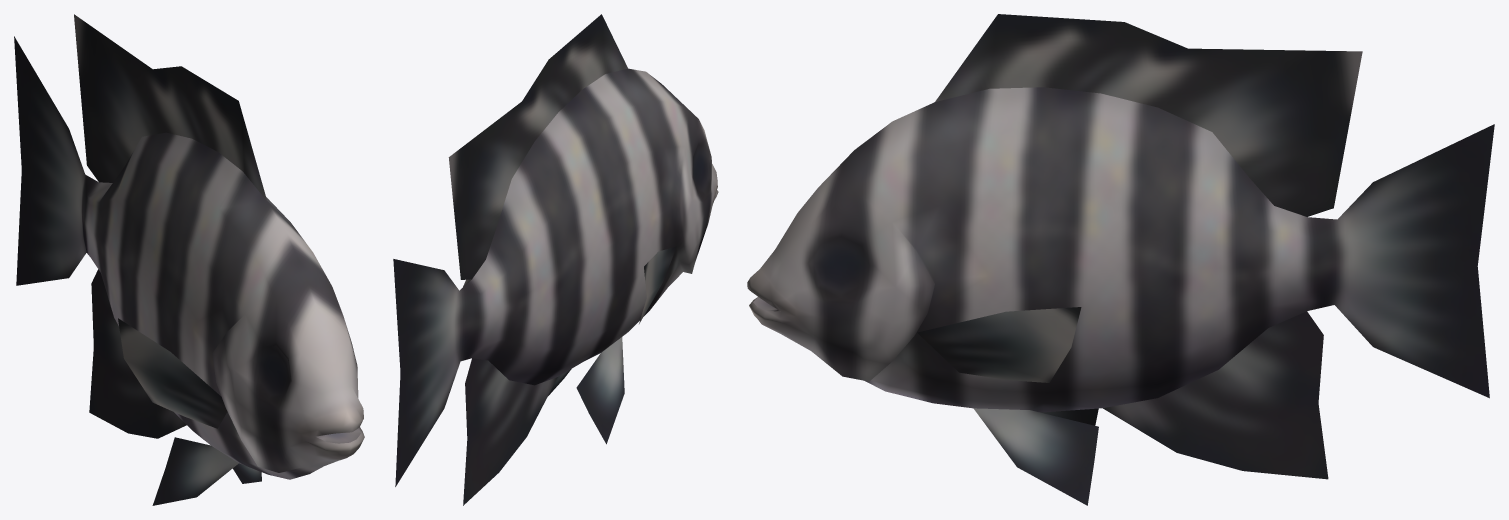
Rendered from barred-knifejaw.glb.
3 renders of one model, left to right at view 1: azimuth 30°, elevation 25°; view 2: azimuth 150°, elevation 25°; view 3: azimuth 270°, elevation 25°, orthographic. The views are drawn at different scales.
Visible parts, largest first — view 1: FishIshidai__mIshidai; view 2: FishIshidai__mIshidai; view 3: FishIshidai__mIshidai.
Part boxes in pixels (box(x1,y1,x2,y2)): FishIshidai__mIshidai: box(14, 14, 364, 505); FishIshidai__mIshidai: box(393, 14, 718, 505); FishIshidai__mIshidai: box(747, 14, 1494, 505).
Bounding box in the file's own units: 1.67 × 4.05 × 5.87.
Materials: 1 (1 with a texture image).
